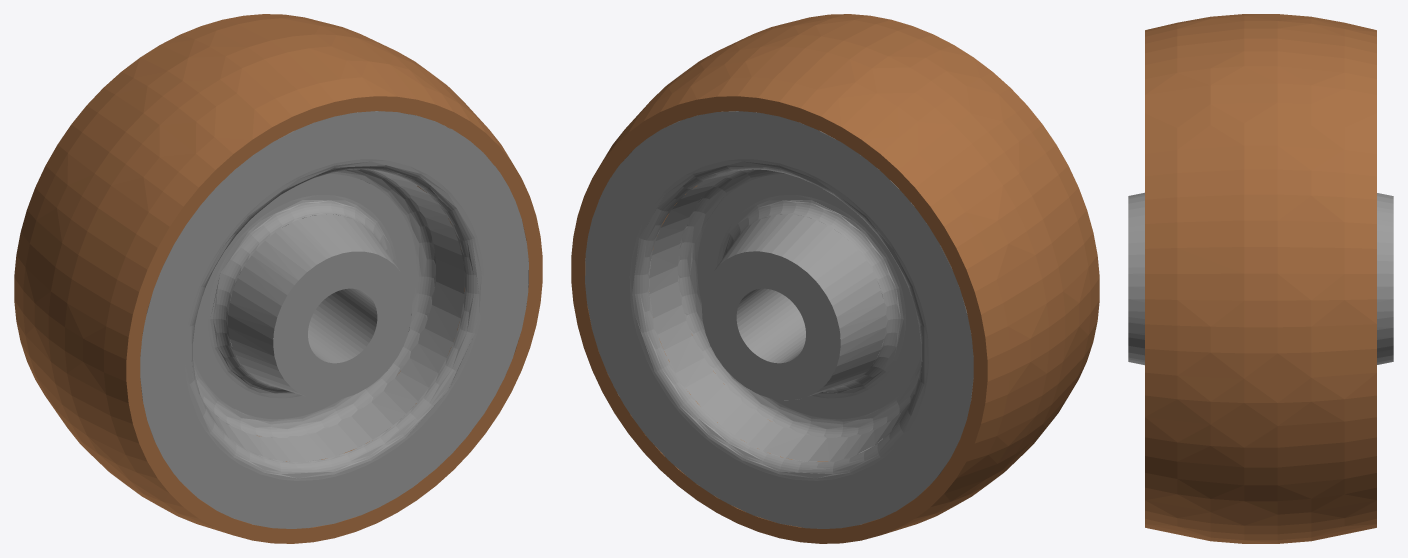
Rendered from caster_wheel.dae.
3 renders of one model, left to right at view 1: azimuth 30°, elevation 25°; view 2: azimuth 150°, elevation 25°; view 3: azimuth 270°, elevation 25°, orthographic. The views are drawn at different scales.
Parts seen in each view (by area): view 1: caster_wheel; view 2: caster_wheel; view 3: caster_wheel.
Boxes of the visible parts, <box> form: caster_wheel: <box>14,14,542,543</box>; caster_wheel: <box>571,14,1099,543</box>; caster_wheel: <box>1128,14,1393,543</box>.
Bounding box in the file's own units: 0.0319 × 0.016 × 0.032.
1 material, 1 textured.
